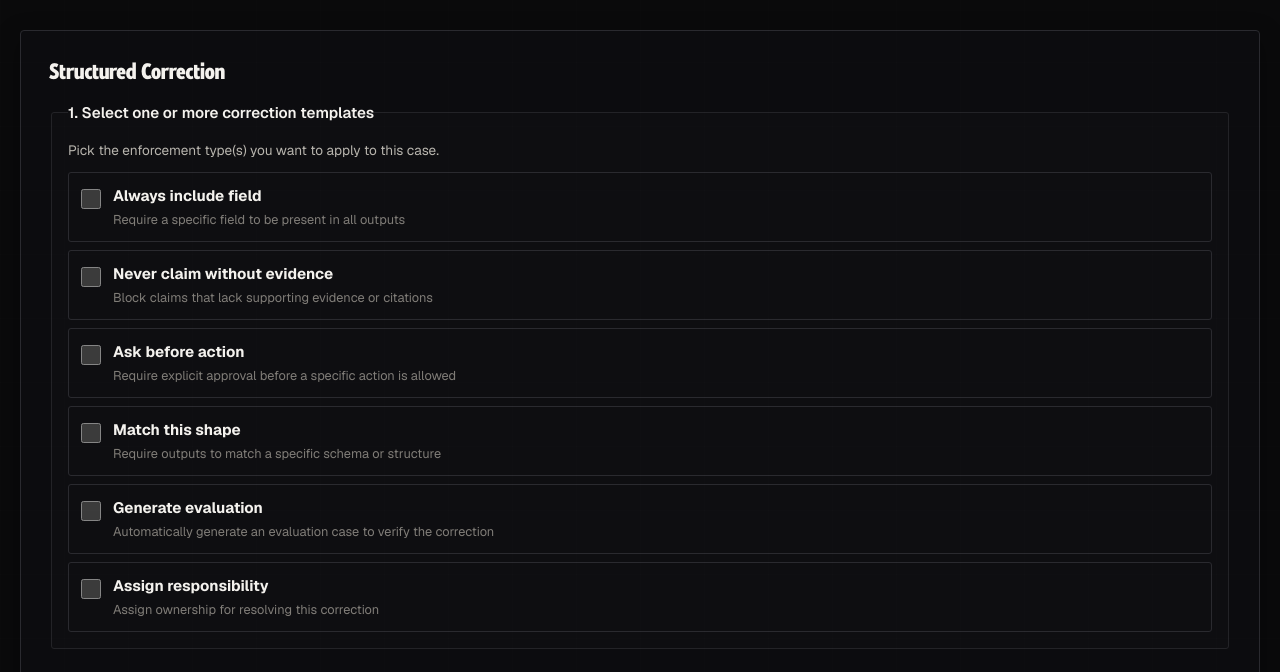
Test: CorrectionTemplateForm › template selection › shows template-specific fields when a template is selected
Click the checkbox labelled "Always include field" at (91, 199), box x1=81 y1=189 x2=101 y2=209
(page scrolled)
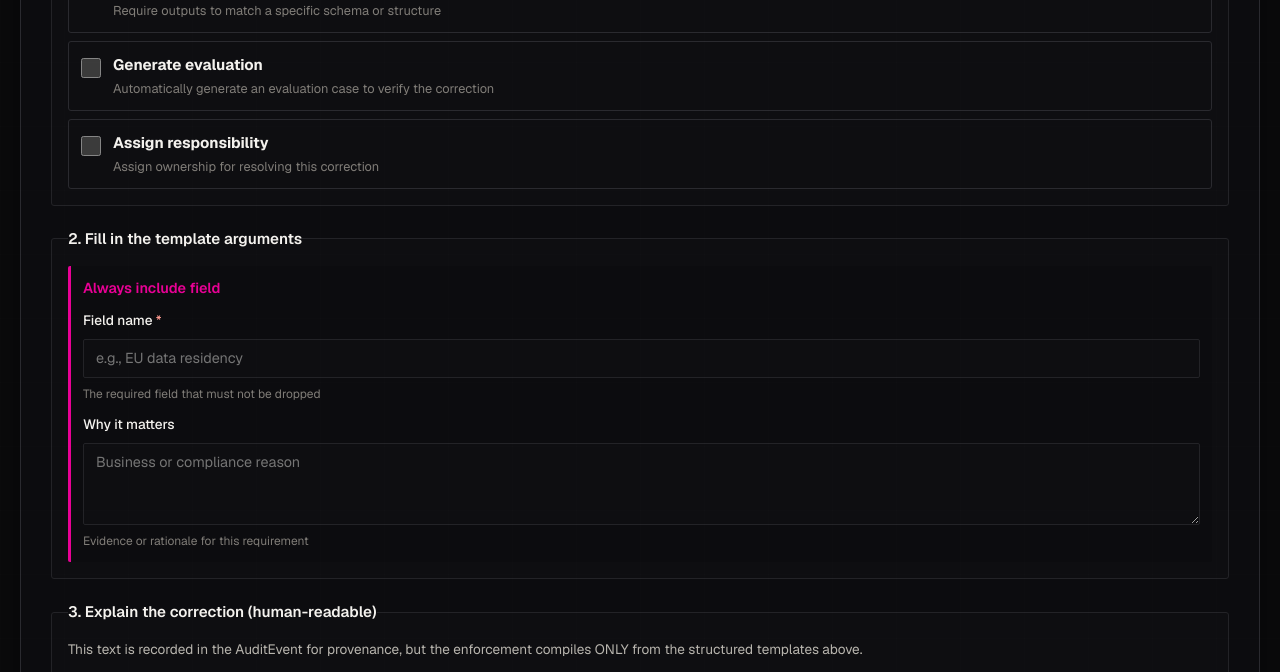
Result: the text "2. Fill in the template arguments" is shown at x1=68 y1=228 x2=302 y2=250
Result: the field labelled "Field name *" is shown at x1=83 y1=338 x2=1200 y2=378
